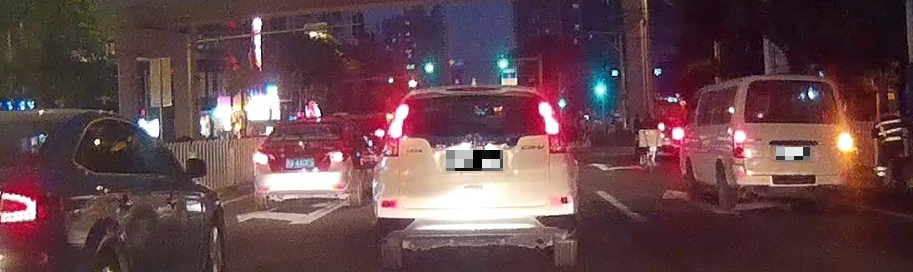L_light: (387, 104, 409, 139), (733, 130, 747, 159), (253, 151, 268, 164)
R_light: (537, 101, 560, 133), (838, 133, 852, 156), (328, 149, 344, 165)
T_light: (449, 87, 486, 92), (782, 80, 802, 84), (298, 123, 310, 126)
night-left: (733, 75, 853, 208)
night-no: (373, 85, 579, 268), (252, 117, 351, 205)
plate_1: (446, 150, 503, 171)
plate_2: (776, 147, 810, 160)
